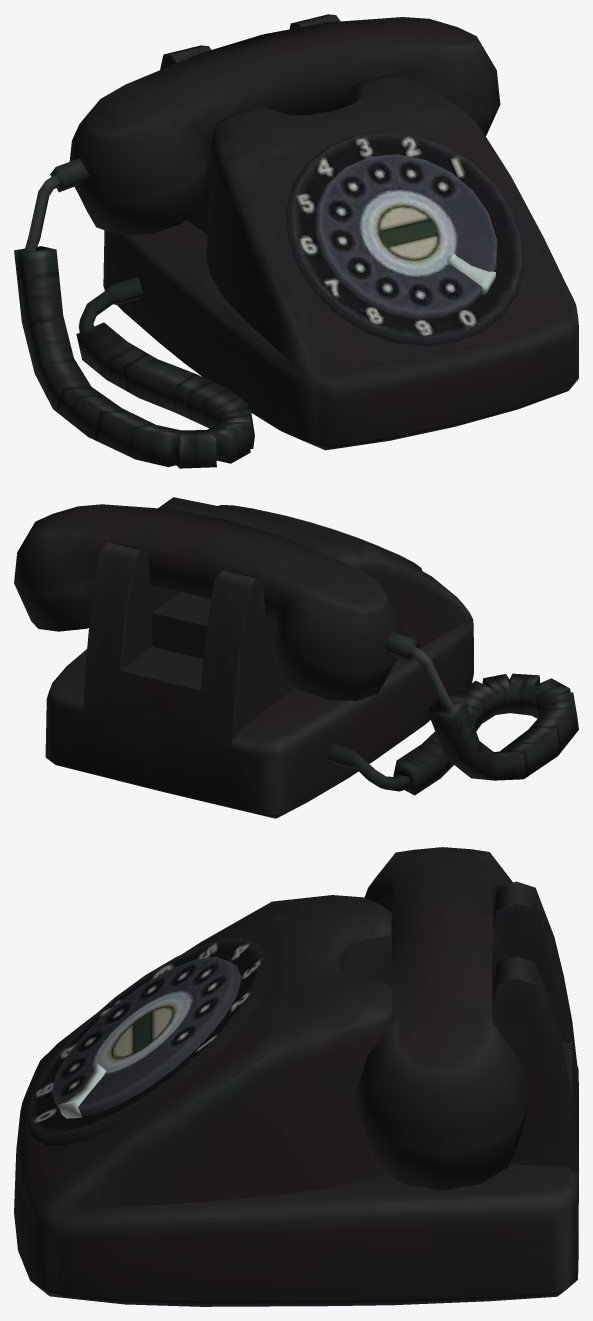
3 renders of one model, top to bottom at view 1: azimuth 30°, elevation 25°; view 2: azimuth 150°, elevation 25°; view 3: azimuth 270°, elevation 25°, orthographic. The views are drawn at different scales.
Bounding box in the file's own units: 6.53 × 3.24 × 5.32.
1 material, 1 textured.
